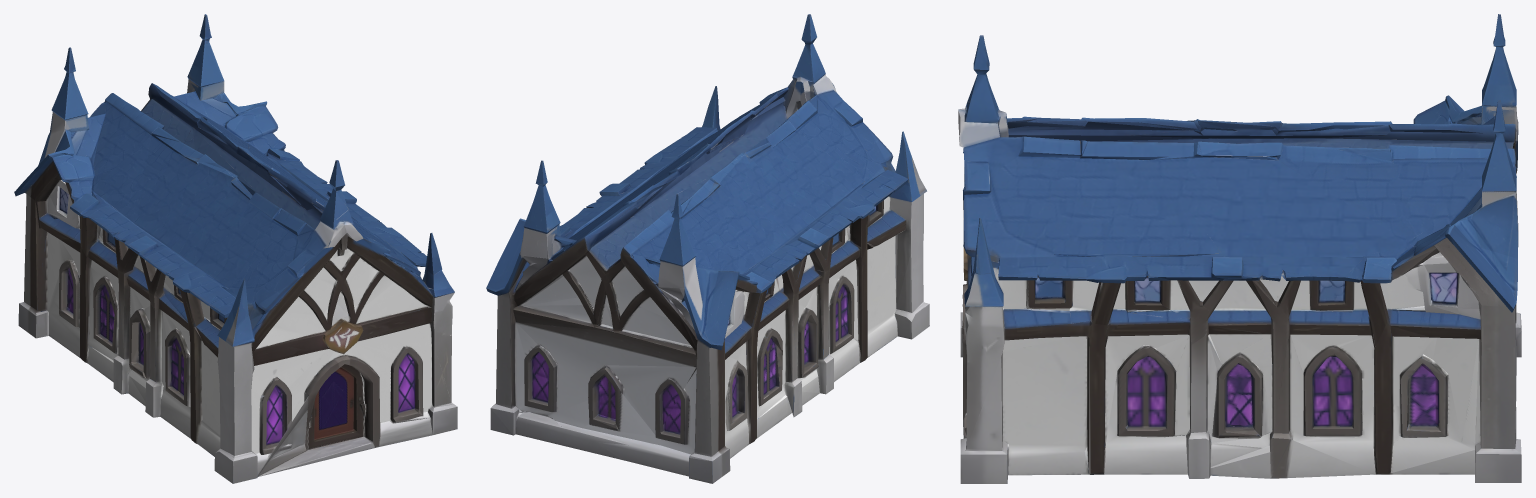
The model's file is academy_hall.glb.
3 views of the same model, side by side, from view 1: azimuth 30°, elevation 25°; view 2: azimuth 150°, elevation 25°; view 3: azimuth 270°, elevation 25° (orthographic). The views are drawn at different scales.
Parts seen in each view (by area): view 1: academy_hall; view 2: academy_hall; view 3: academy_hall.
Part boxes in pixels (<box>): academy_hall: <box>14,14,457,483</box>; academy_hall: <box>486,14,929,483</box>; academy_hall: <box>958,14,1521,483</box>.
Bounding box in the file's own units: 7.68 × 9 × 12.19.
Materials: 1 (1 with a texture image).
